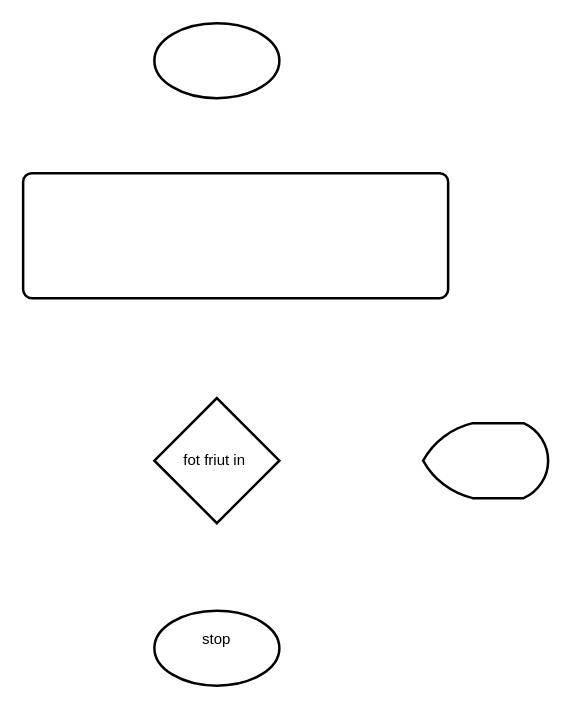
Some shapes in this 570 by 708 pixel diagram are drawn without their labels. Here are the shapes that lost their labels. From the top down, the centre of each, then its label:
[235,235]: fruits = [ "apple" , "banana" , "cherry" ]
[485,460]: displayfruit
